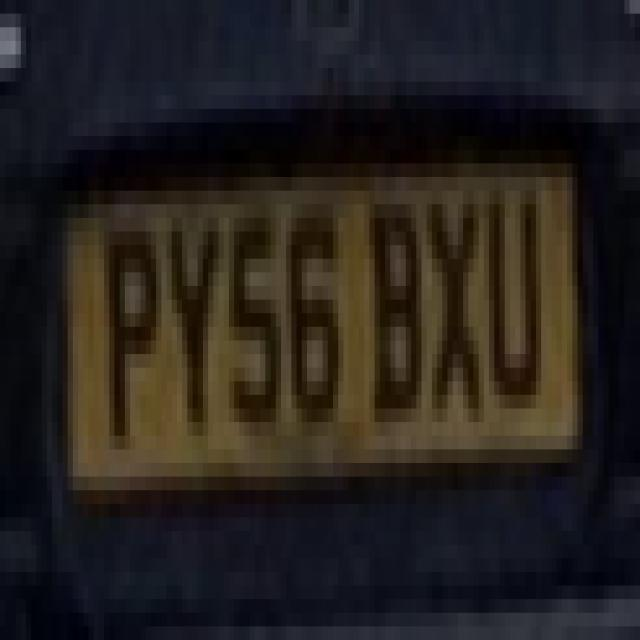5: (223, 191, 290, 451)
6: (281, 186, 348, 428)
B: (364, 178, 429, 452)
P: (103, 200, 164, 458)
U: (482, 163, 554, 430)
X: (425, 176, 485, 447)
Y: (167, 192, 223, 460)
